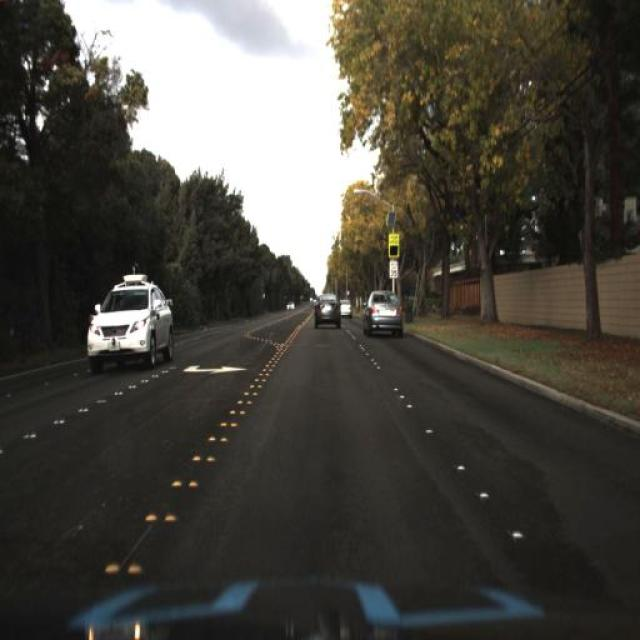car: (84, 268, 176, 372), (359, 284, 406, 340), (306, 290, 346, 340), (283, 296, 298, 322), (338, 300, 352, 326)
